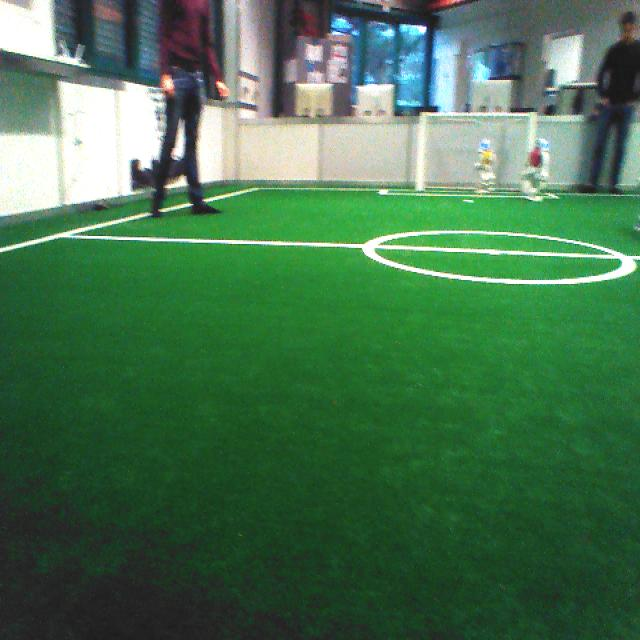goalpost: (414, 109, 428, 188), (527, 109, 537, 156)
